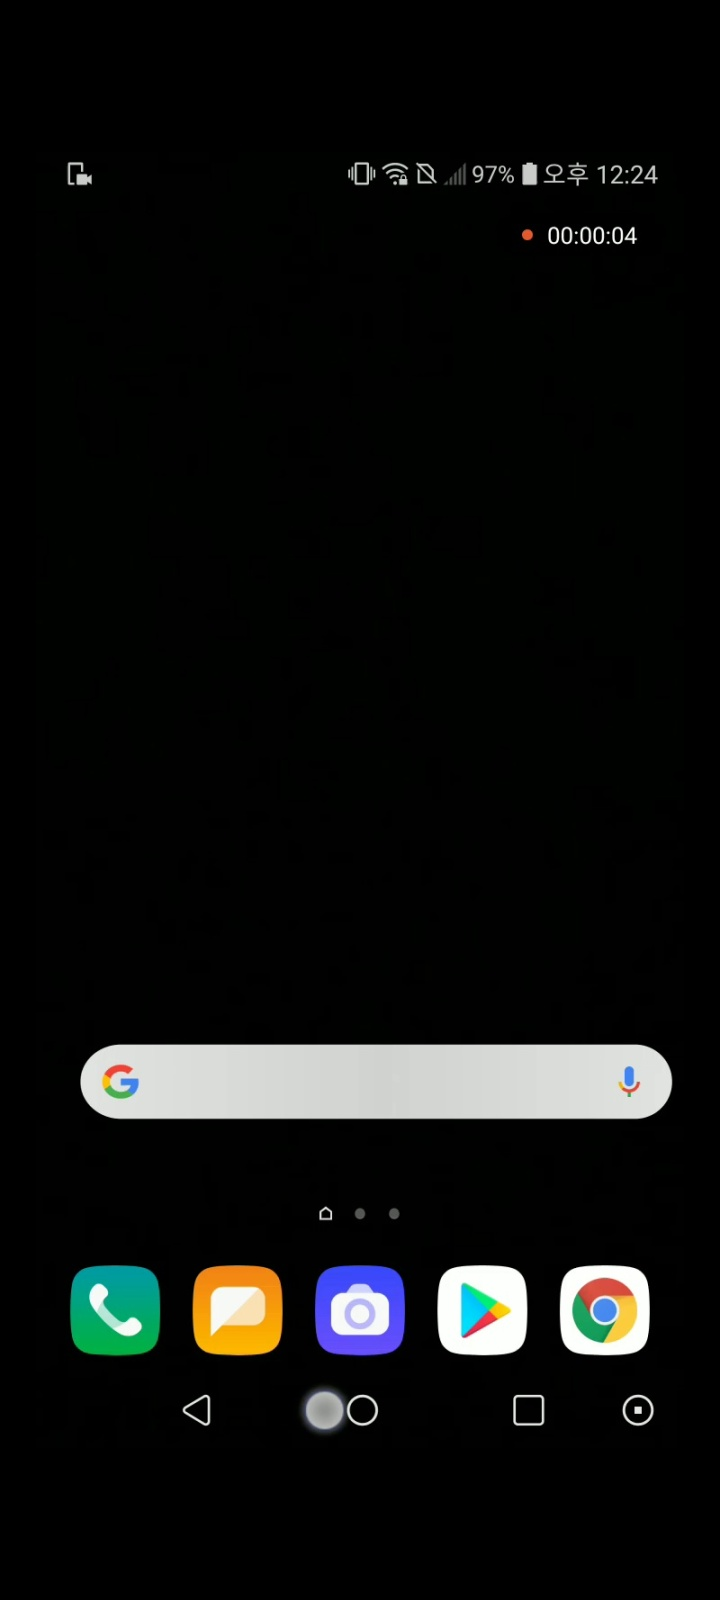Cursor: (301, 1391, 346, 1436)
